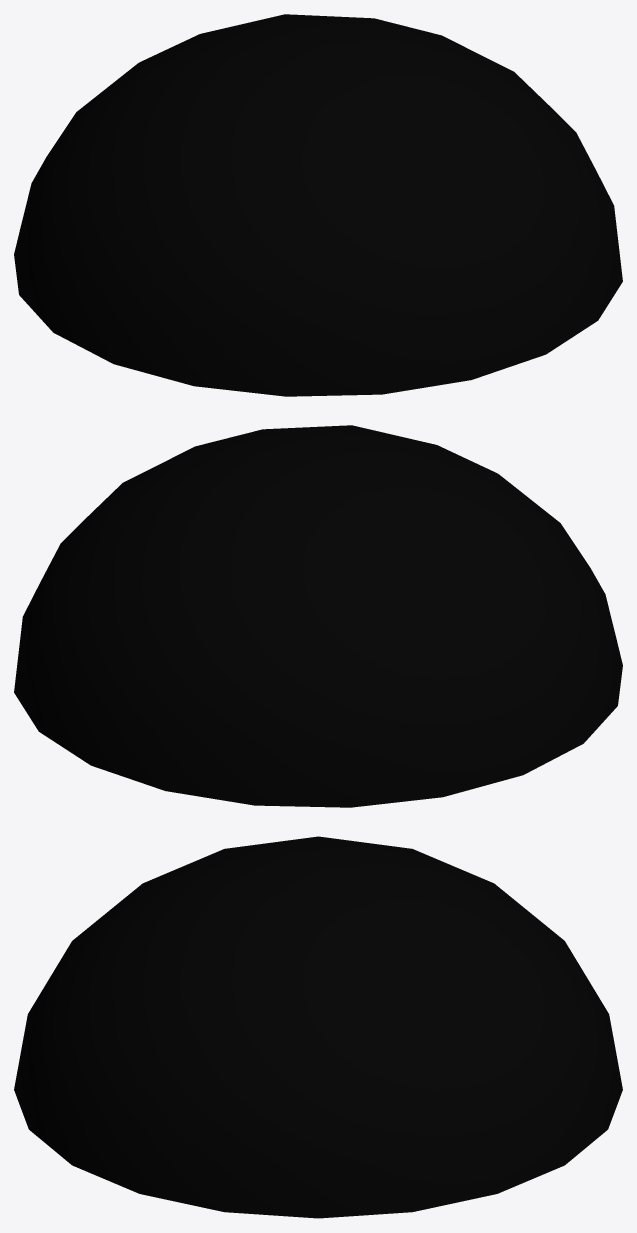
Rendered from SkyDome.fbx.
3 views of the same model, one above another, from view 1: azimuth 30°, elevation 25°; view 2: azimuth 150°, elevation 25°; view 3: azimuth 270°, elevation 25° (orthographic).
Parts seen in each view (by area): view 1: Skydome; view 2: Skydome; view 3: Skydome.
Part boxes in pixels (box(x1,y1,x2,y2)): Skydome: box(14, 14, 622, 396); Skydome: box(14, 425, 622, 807); Skydome: box(14, 836, 622, 1218).
Size of the model in its own units: 6588 by 2613 by 6588.
1 material, 1 textured.
